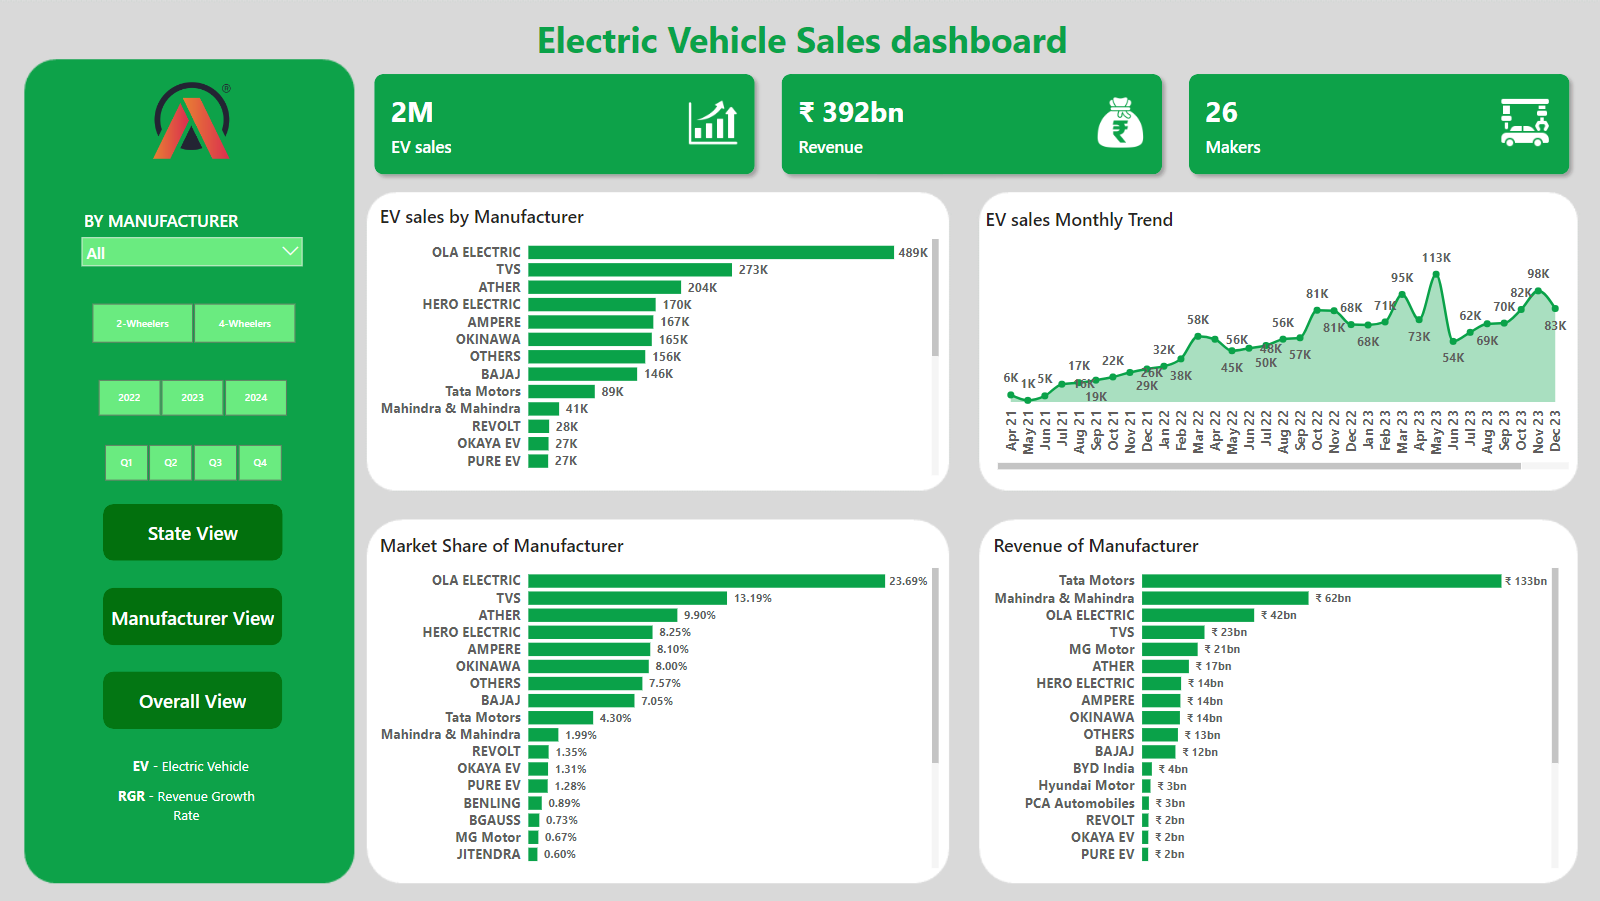

The page's visual inventory and layout, read from the dashboard file:
{"tool":"powerbi","page":{"name":"Manufacturer View","canvas":[1920,1080],"ordinal":2},"visuals":[{"type":"clusteredBarChart","title":"EV sales by Manufacturer","fields":{"Category":["Electric_Vehicle_Sales_by_Makers.maker"],"Y":["Key_Measures.Total EVs Sold by Makers"]},"box":[451.7,245.9,678.5,329.7],"z":0},{"type":"slicer","fields":{"Values":["Electric_Vehicle_Sales_by_Makers.maker"]},"box":[90.1,246.2,284.7,88.8],"z":1000},{"type":"cardVisual","fields":{"Data":["Key_Measures.Total EVs Sold by Makers","Key_Measures.Total Revenue (Makers)","Key_Measures.Total Makers"]},"box":[437.8,78.5,1454.7,144.8],"z":2000},{"type":"image","box":[178,92.1,108.9,103.8],"z":3000},{"type":"clusteredBarChart","title":"Market Share of Manufacturer","fields":{"Category":["Electric_Vehicle_Sales_by_Makers.maker"],"Y":["Key_Measures.Market Share by Maker"]},"box":[451.7,638.4,678.5,406.4],"z":4000},{"type":"clusteredBarChart","title":"Revenue of Manufacturer","fields":{"Category":["Electric_Vehicle_Sales_by_Makers.maker"],"Y":["Key_Measures.Total Revenue (Makers)"]},"box":[1186,638.4,685.5,406.4],"z":5000},{"type":"slicer","fields":{"Values":["dim_vehicle_category.vehicle_category"]},"box":[86.1,356.9,292.7,60.5],"z":6000},{"type":"slicer","fields":{"Values":["dim_date.fiscal_year"]},"box":[94.9,448.6,275.1,56.6],"z":7000},{"type":"slicer","fields":{"Values":["dim_date.quarter"]},"box":[101.7,526.7,261.5,56.6],"z":8000},{"type":"lineChart","title":"EV sales Monthly Trend","fields":{"Y":["Key_Measures.Total EVs Sold by Makers"],"Category":["dim_date.date"]},"box":[1180.8,247.7,697.7,319.2],"z":9000},{"type":"textbox","box":[579.8,14,763.2,77.7],"z":10000},{"type":"actionButton","box":[124.9,604.4,215,68],"z":11000},{"type":"actionButton","box":[125.2,703.7,214.4,68.7],"z":12000},{"type":"actionButton","box":[125.2,803.7,214.4,68.7],"z":13000},{"type":"textbox","box":[129.1,901.7,204.1,36.6],"z":14000}]}

Visuals, with their boxes in screenshot pixels (x1, y1, x2, y2), scaled from the page's 1920x1080 canvas onto the 1600x901 screenshot:
"EV sales by Manufacturer" clusteredBarChart: {"left": 376, "top": 205, "right": 942, "bottom": 480}
slicer - Electric_Vehicle_Sales_by_Makers.maker: {"left": 75, "top": 205, "right": 312, "bottom": 279}
cardVisual - Key_Measures.Total EVs Sold by Makers x Key_Measures.Total Revenue (Makers): {"left": 365, "top": 65, "right": 1577, "bottom": 186}
image: {"left": 148, "top": 77, "right": 239, "bottom": 163}
"Market Share of Manufacturer" clusteredBarChart: {"left": 376, "top": 533, "right": 942, "bottom": 872}
"Revenue of Manufacturer" clusteredBarChart: {"left": 988, "top": 533, "right": 1560, "bottom": 872}
slicer - dim_vehicle_category.vehicle_category: {"left": 72, "top": 298, "right": 316, "bottom": 348}
slicer - dim_date.fiscal_year: {"left": 79, "top": 374, "right": 308, "bottom": 421}
slicer - dim_date.quarter: {"left": 85, "top": 439, "right": 303, "bottom": 487}
"EV sales Monthly Trend" lineChart: {"left": 984, "top": 207, "right": 1565, "bottom": 473}
textbox: {"left": 483, "top": 12, "right": 1119, "bottom": 77}
actionButton: {"left": 104, "top": 504, "right": 283, "bottom": 561}
actionButton: {"left": 104, "top": 587, "right": 283, "bottom": 644}
actionButton: {"left": 104, "top": 670, "right": 283, "bottom": 728}
textbox: {"left": 108, "top": 752, "right": 278, "bottom": 783}
